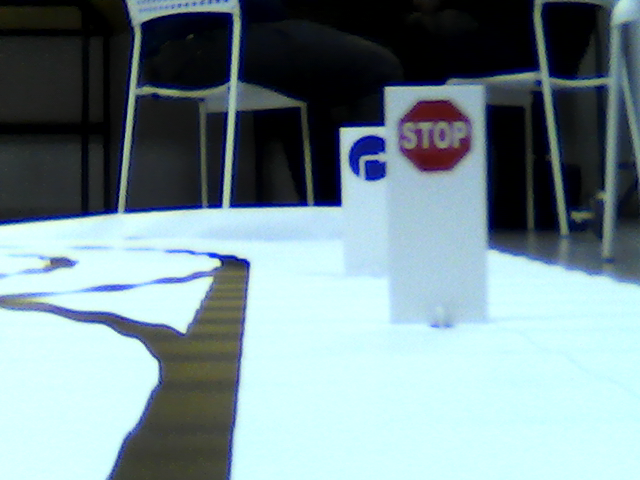Right: (345, 133, 386, 179)
Stop: (393, 94, 474, 179)
